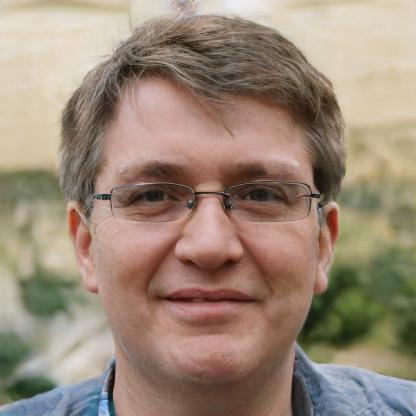glasses: (101, 176, 319, 230)
